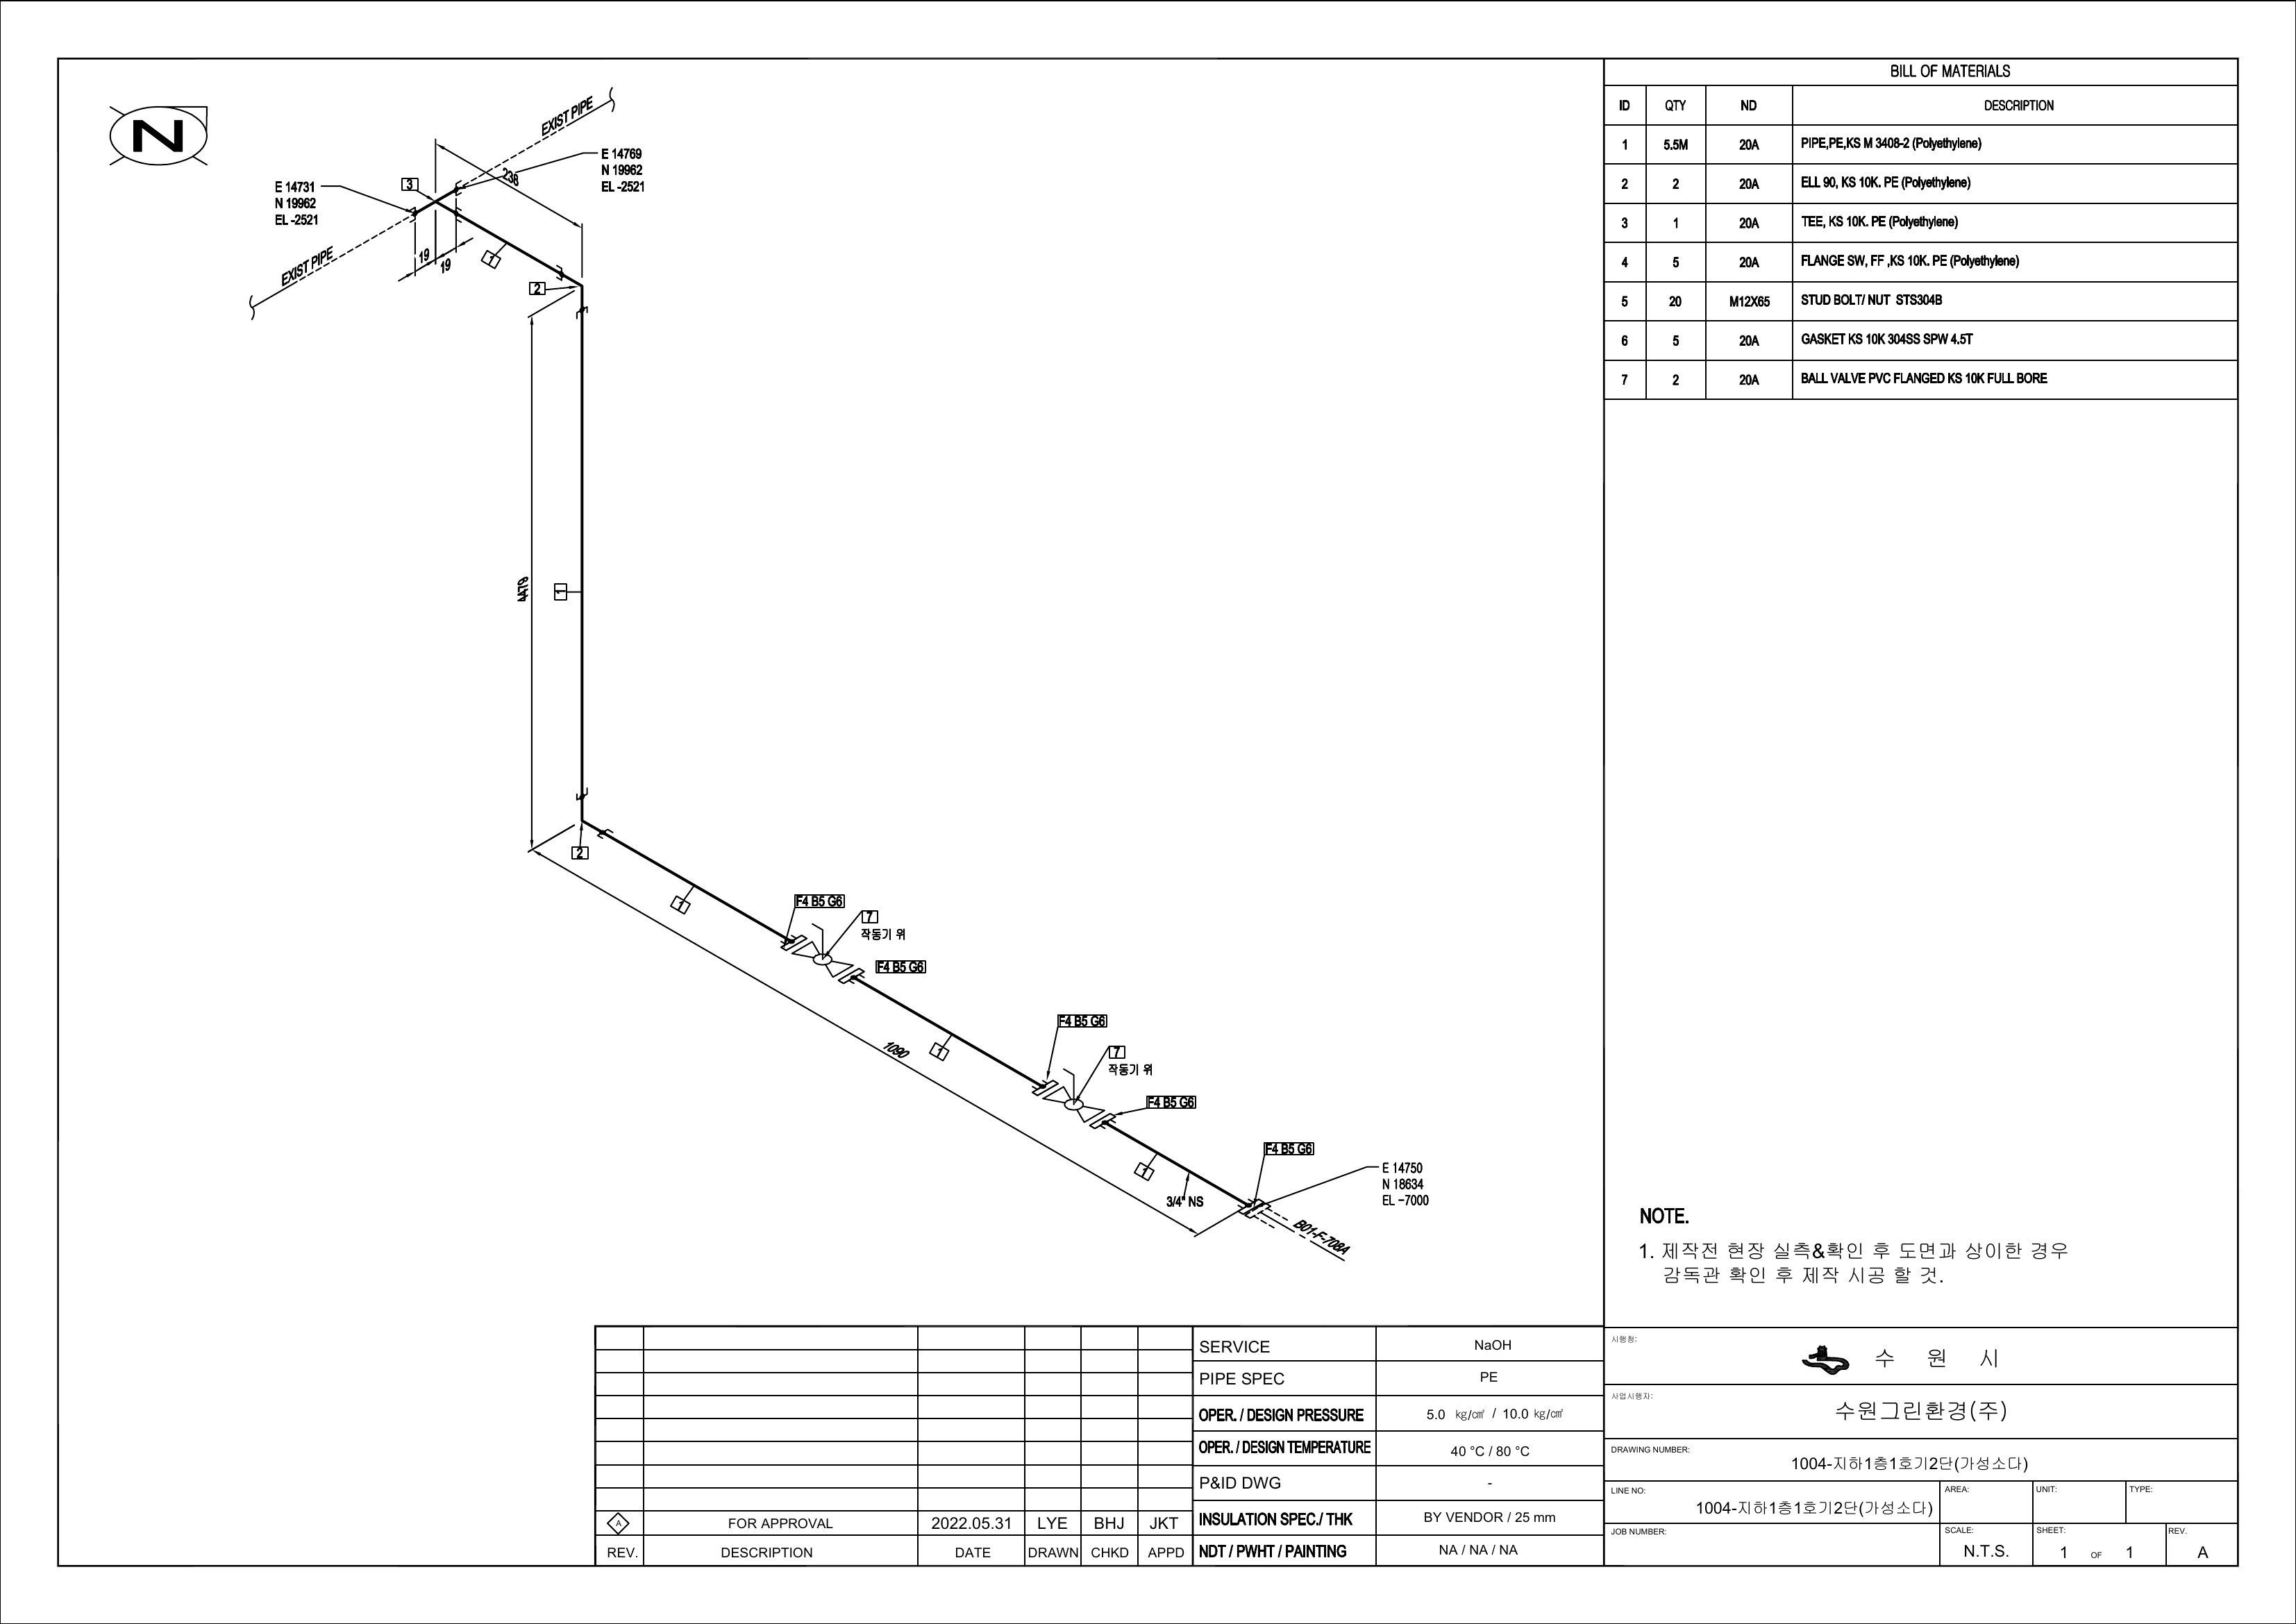table: (1597, 49, 2242, 404)
